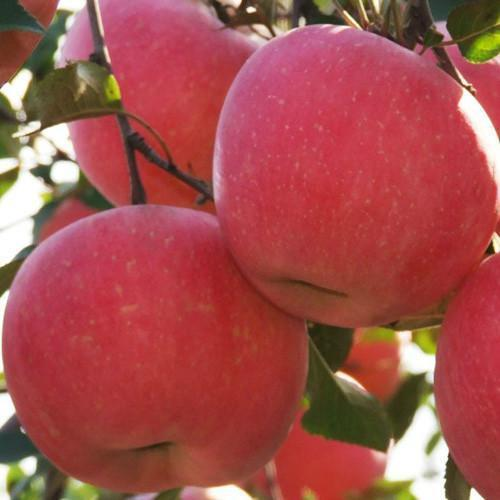apple: (2, 210, 310, 493), (215, 30, 498, 318), (76, 6, 264, 206)
